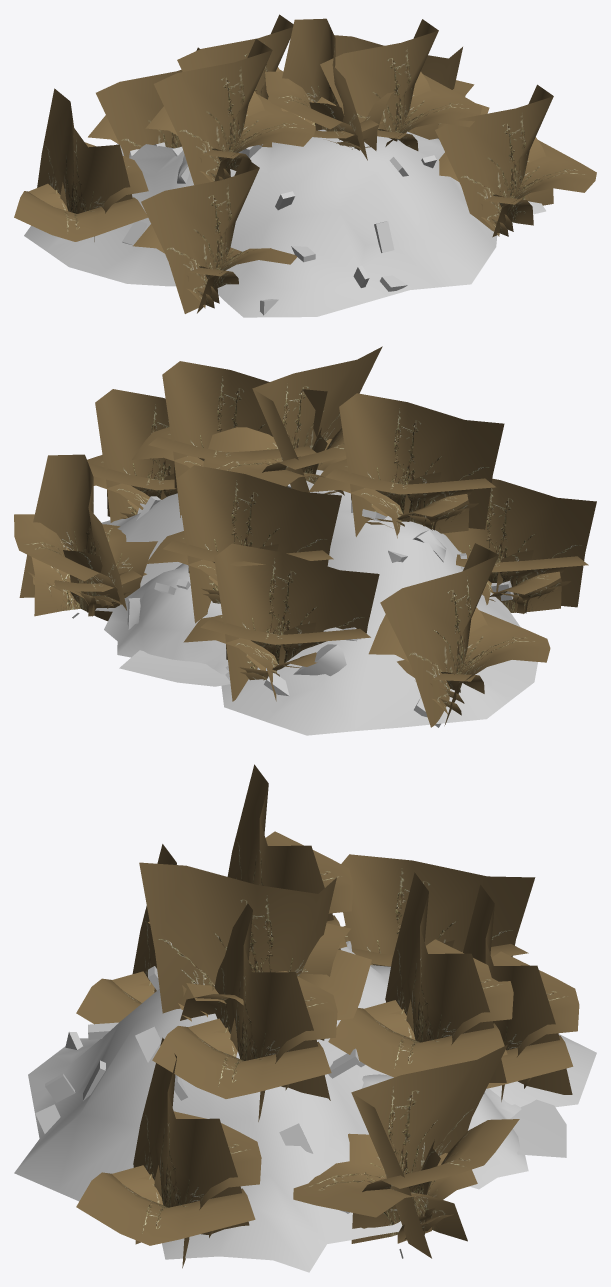
The model's file is shut brown LOD0.fbx.
3 renders of one model, top to bottom at view 1: azimuth 30°, elevation 25°; view 2: azimuth 150°, elevation 25°; view 3: azimuth 270°, elevation 25°, orthographic. The views are drawn at different scales.
Parts seen in each view (by area): view 1: polymsh73; view 2: polymsh73; view 3: polymsh73.
Part boxes in pixels (left/top/right/bottom): polymsh73: left=14, top=14, right=596, bottom=317; polymsh73: left=14, top=346, right=596, bottom=735; polymsh73: left=14, top=764, right=596, bottom=1272.
Size of the model in its own units: 4.48 by 1.81 by 3.39.
